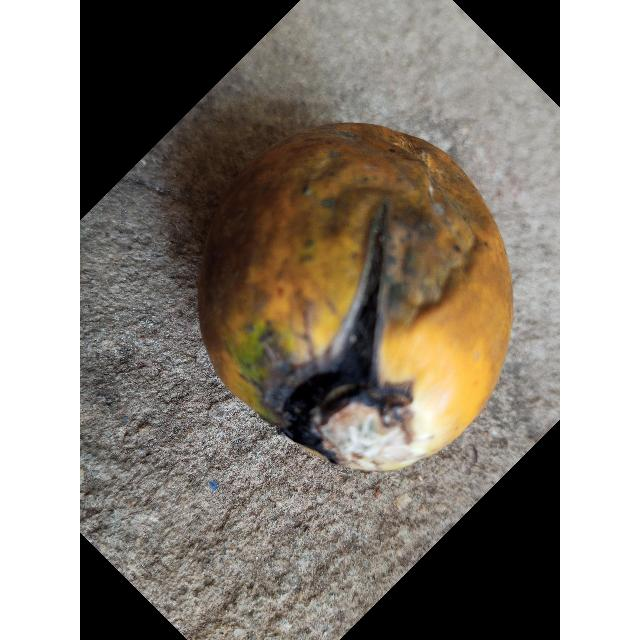damaged: (197, 122, 514, 475)
